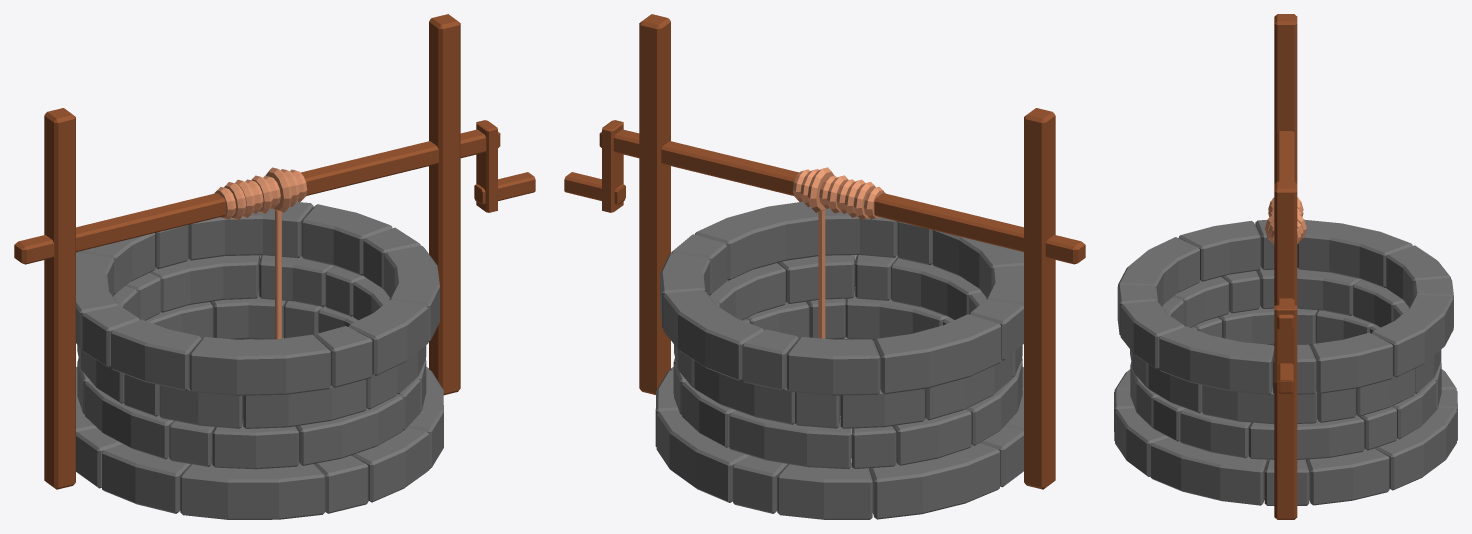
File: Well.fbx
The picture shows the model from 3 angles, left to right: view 1: azimuth 30°, elevation 25°; view 2: azimuth 150°, elevation 25°; view 3: azimuth 270°, elevation 25°; orthographic projection. The views are drawn at different scales.
Visible parts, largest first — view 1: Stone, Wood, Rope; view 2: Stone, Wood, Rope; view 3: Stone, Wood, Rope.
Boxes of the visible parts, x1=… form: Stone: x1=76, y1=202, x2=443, y2=519; Wood: x1=14, y1=14, x2=535, y2=489; Rope: x1=214, y1=167, x2=307, y2=339; Stone: x1=655, y1=201, x2=1023, y2=519; Wood: x1=564, y1=14, x2=1085, y2=489; Rope: x1=793, y1=167, x2=885, y2=338; Stone: x1=1114, y1=219, x2=1457, y2=505; Wood: x1=1274, y1=14, x2=1297, y2=519; Rope: x1=1265, y1=197, x2=1306, y2=244.
Bounding box in the file's own units: 2646 × 1837 × 1718.
